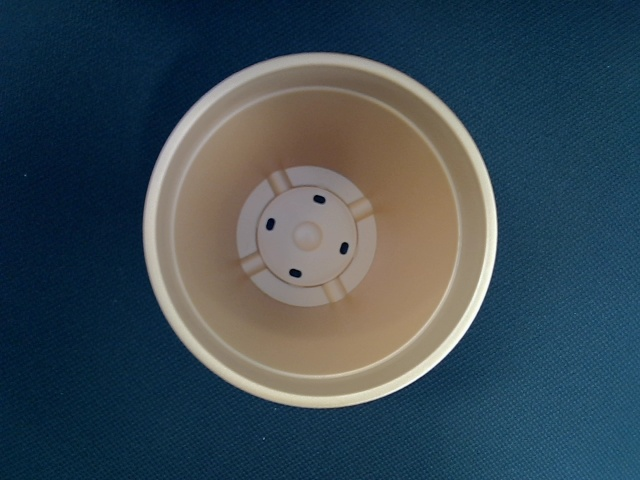화분: (143, 52, 494, 411)
